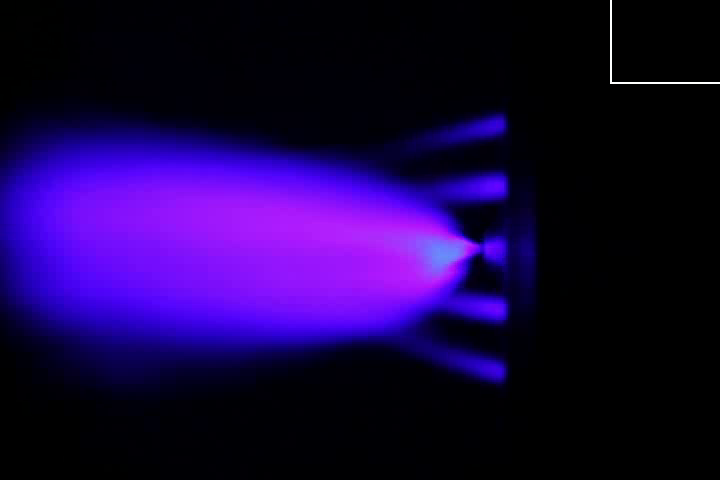burner cap: (480, 233, 513, 269)
pilot flame: (393, 337, 512, 384), (405, 113, 508, 149), (437, 295, 507, 329), (427, 176, 509, 201)
stable: (120, 176, 479, 304)
